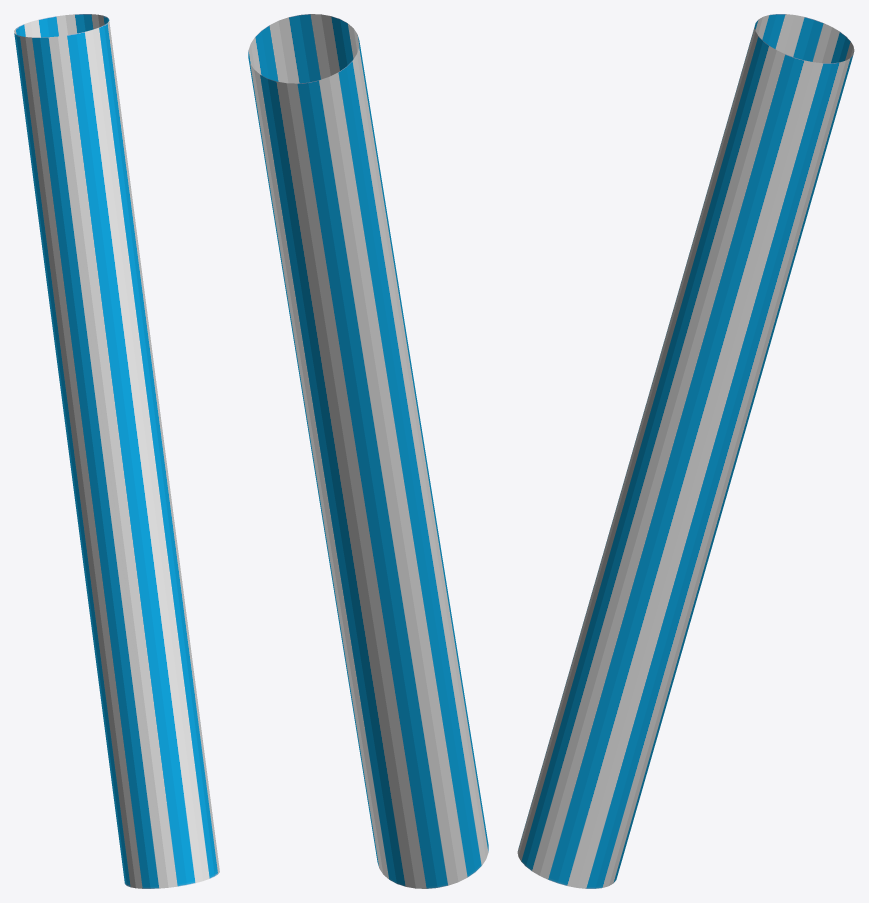
Rendered from straw.gltf.
3 views of the same model, side by side, from view 1: azimuth 30°, elevation 25°; view 2: azimuth 150°, elevation 25°; view 3: azimuth 270°, elevation 25° (orthographic). The views are drawn at different scales.
Parts seen in each view (by area): view 1: Cylinder; view 2: Cylinder; view 3: Cylinder.
Part boxes in pixels (left/top/right/bottom): Cylinder: left=14, top=14, right=219, bottom=888; Cylinder: left=248, top=14, right=488, bottom=888; Cylinder: left=517, top=14, right=854, bottom=888.
Size of the model in its own units: 0.0687 by 0.6244 by 0.2245.
1 material, 1 textured.
